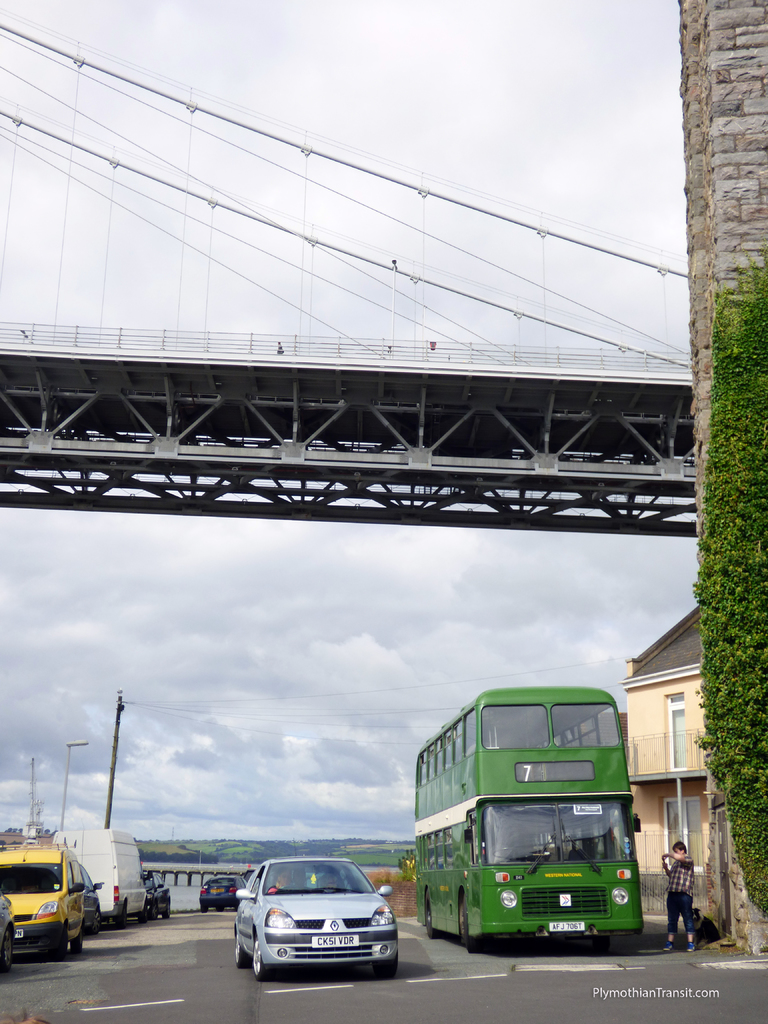mobil: (219, 836, 427, 997)
